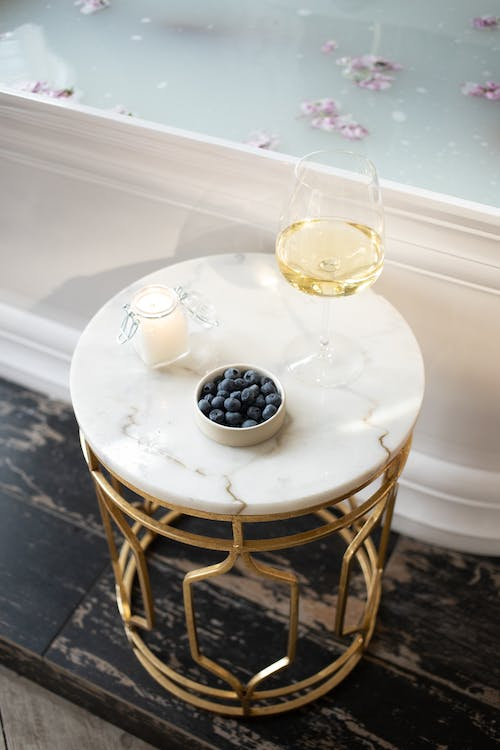alcohol: (274, 148, 385, 390)
